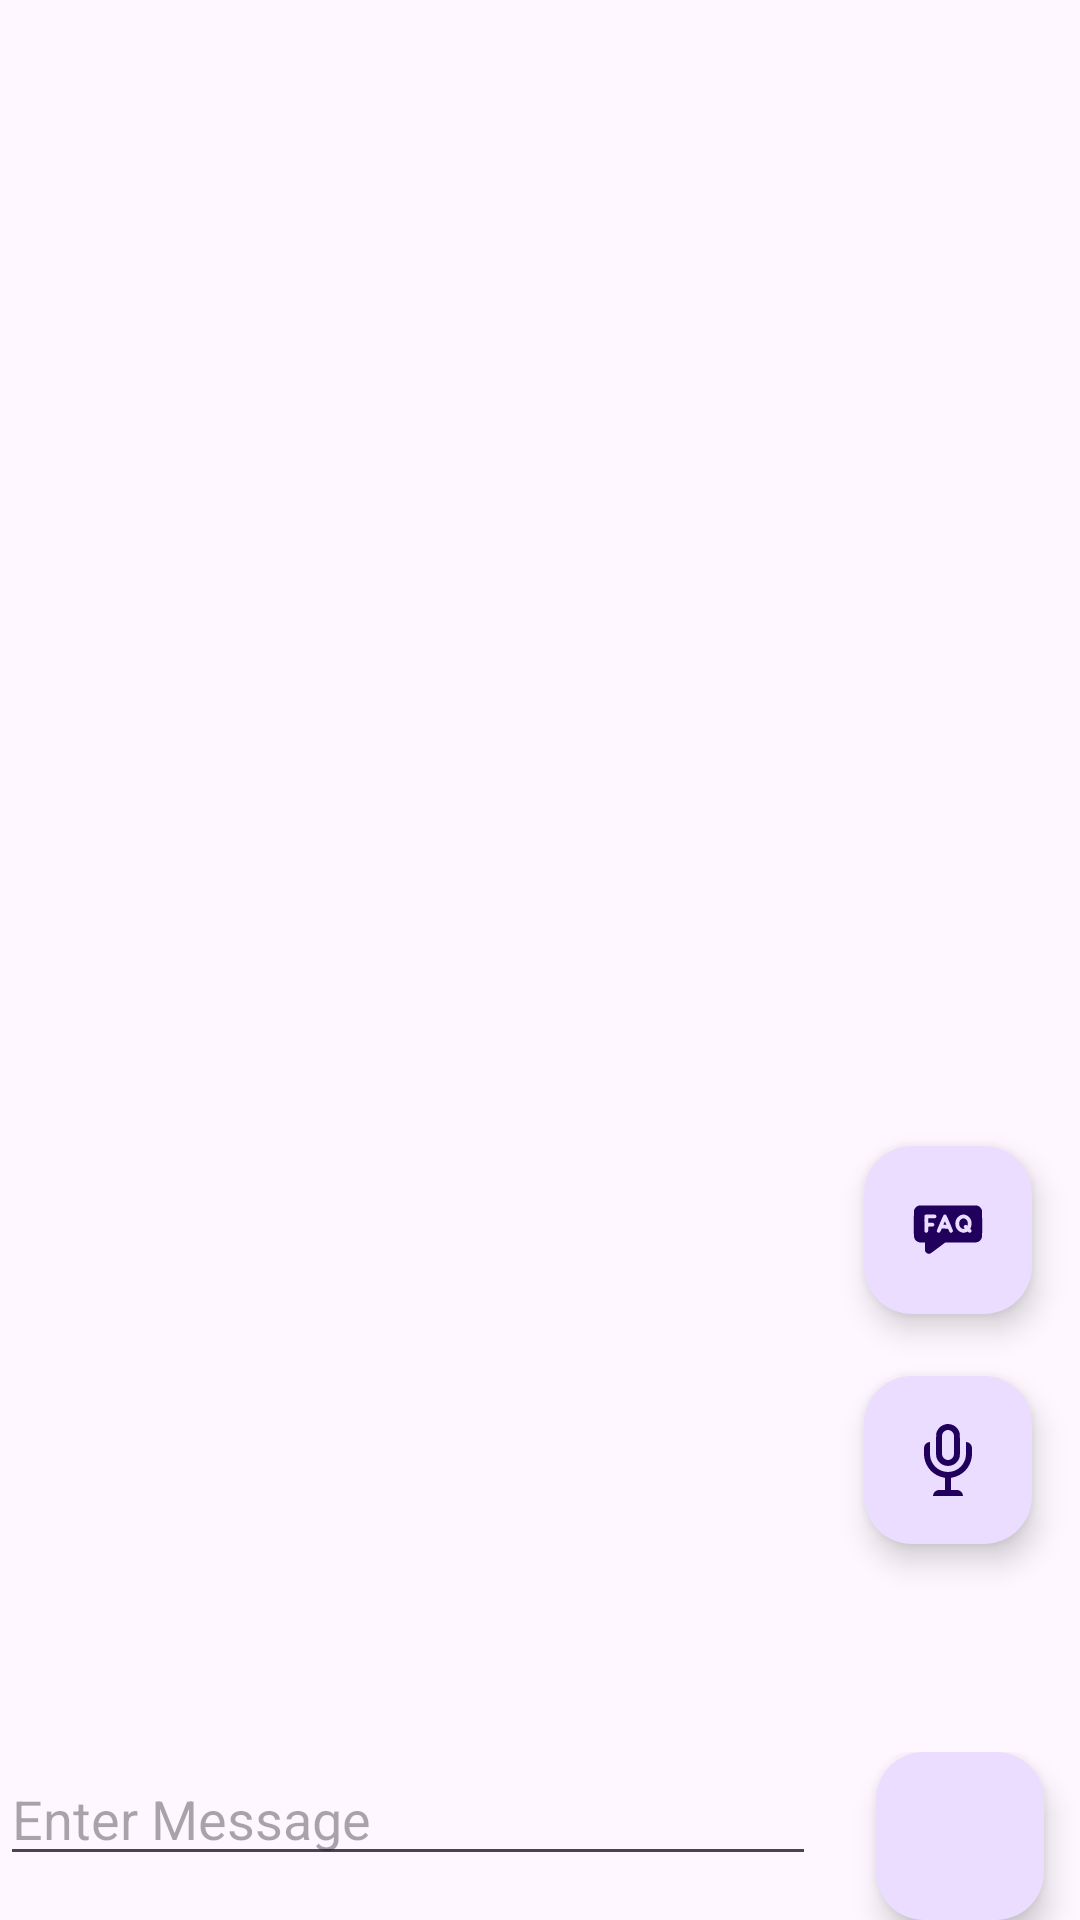

Locate icon controls on the screen. Image size 1080×1920, boxes as (x1, y1, x2, y2).
microphone: (864, 1376, 1032, 1544)
